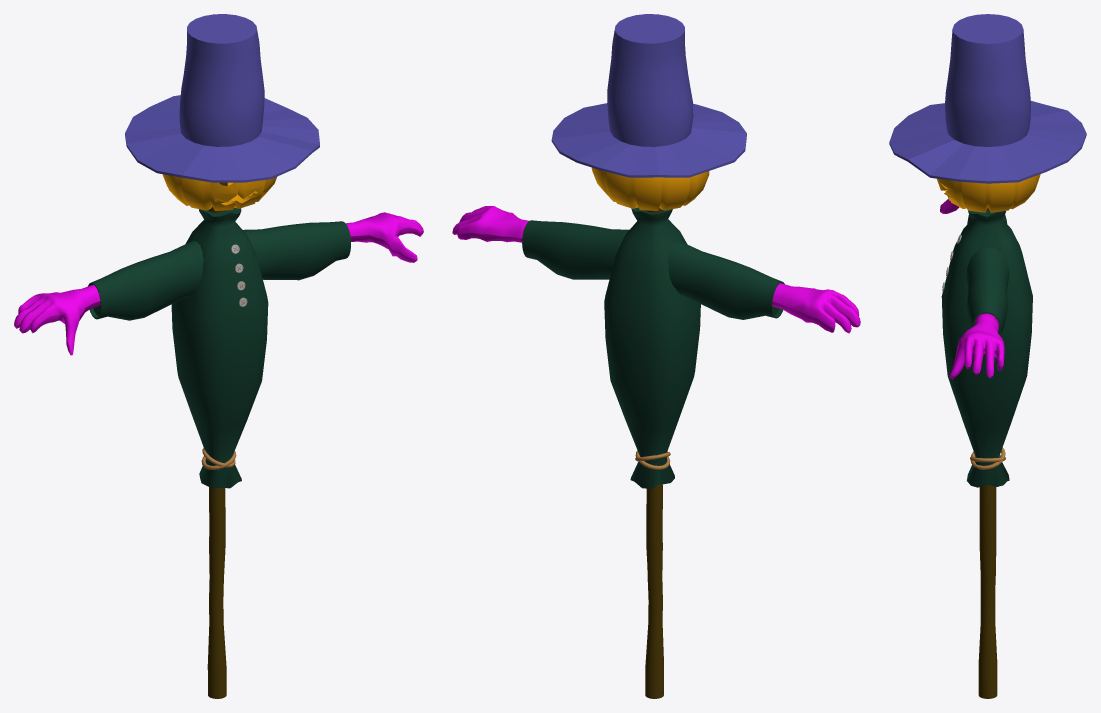
The model's file is Pumpkin_head.fbx.
3 views of the same model, side by side, from view 1: azimuth 30°, elevation 25°; view 2: azimuth 150°, elevation 25°; view 3: azimuth 270°, elevation 25° (orthographic).
Parts seen in each view (by area): view 1: polySurface221, polySurface225, polySurface220, polySurface224, polySurface212, polySurface217, polySurface209, polySurface216; view 2: polySurface221, polySurface225, polySurface220, polySurface224, polySurface212, polySurface209, polySurface217, polySurface216; view 3: polySurface221, polySurface225, polySurface212, polySurface224, polySurface209, polySurface216.
Part boxes in pixels (x1,y1,x2,y2): polySurface221: (125, 14, 319, 182); polySurface225: (171, 207, 268, 488); polySurface220: (88, 240, 203, 320); polySurface224: (243, 221, 350, 280); polySurface212: (207, 182, 227, 698); polySurface217: (14, 284, 100, 355); polySurface209: (162, 174, 276, 210); polySurface216: (346, 212, 423, 262); polySurface221: (551, 14, 746, 177); polySurface225: (604, 207, 700, 488); polySurface220: (668, 240, 784, 319); polySurface224: (522, 220, 629, 279); polySurface212: (645, 207, 663, 698); polySurface209: (591, 167, 709, 210); polySurface217: (772, 283, 860, 333); polySurface216: (452, 206, 528, 242); polySurface221: (889, 14, 1086, 183); polySurface225: (941, 210, 1032, 487); polySurface212: (978, 208, 997, 698); polySurface224: (966, 247, 1009, 335); polySurface209: (937, 174, 1040, 212); polySurface216: (949, 313, 1004, 379).
Size of the model in its own units: 8.31 by 13.14 by 3.51.
